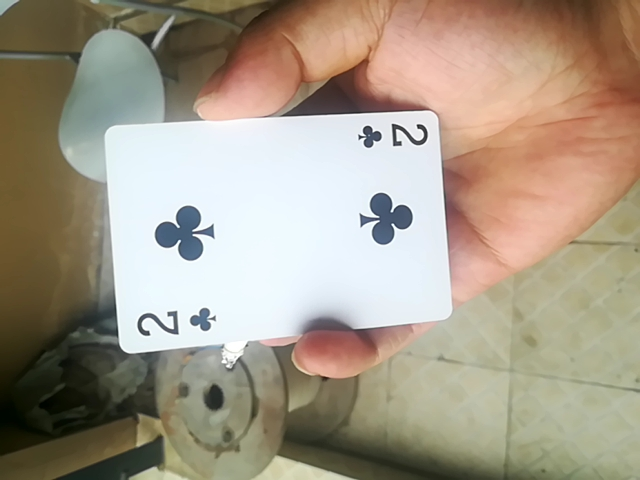mh 2: (106, 106, 449, 360)
